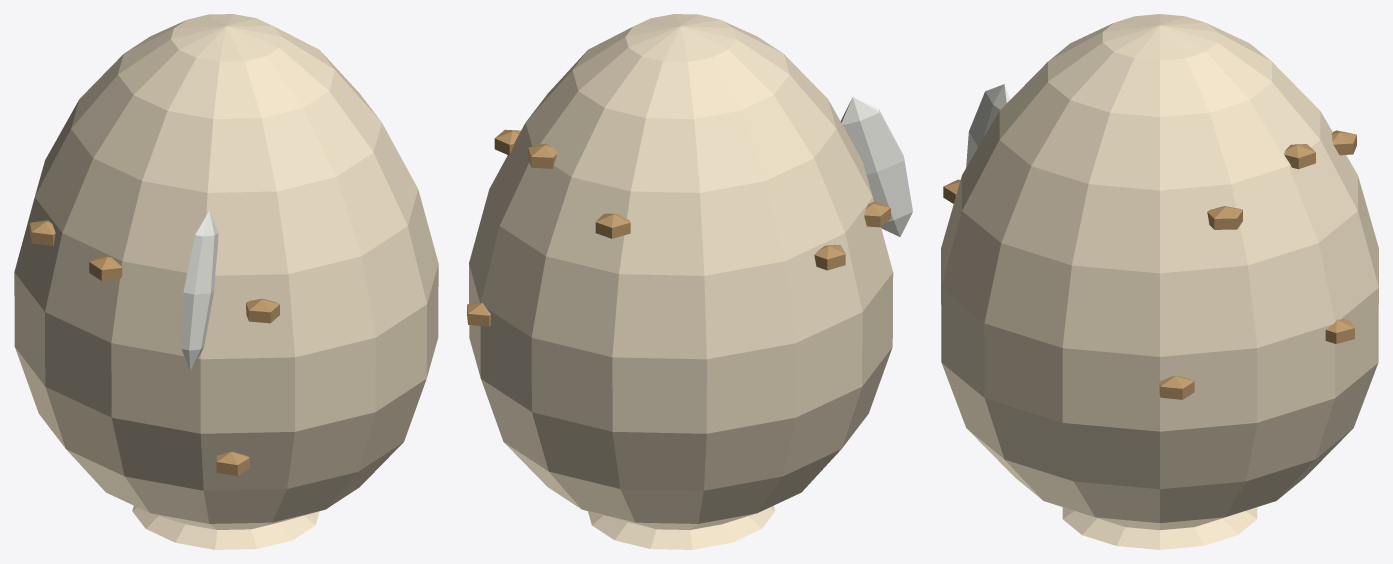
The model's file is egg.glb.
3 renders of one model, left to right at view 1: azimuth 30°, elevation 25°; view 2: azimuth 150°, elevation 25°; view 3: azimuth 270°, elevation 25°, orthographic.
Parts seen in each view (by area): view 1: Egg; view 2: Egg; view 3: Egg.
Boxes of the visible parts, x1=… form: Egg: x1=14, y1=14, x2=438, y2=549; Egg: x1=467, y1=14, x2=912, y2=549; Egg: x1=941, y1=14, x2=1378, y2=549.
Size of the model in its own units: 1.8 by 2.2 by 1.8.
